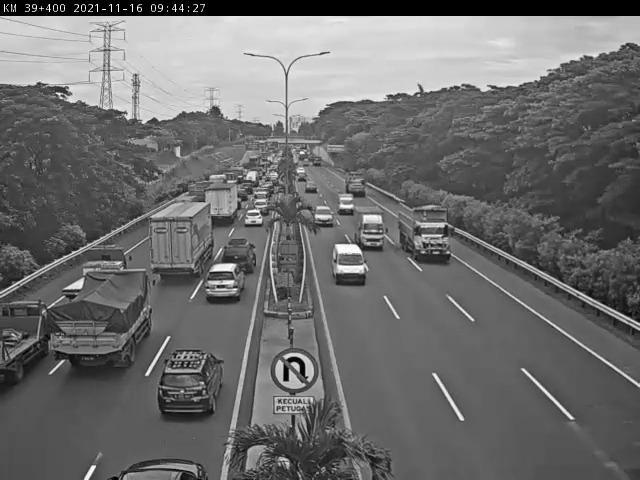car: (158, 348, 223, 420), (328, 242, 370, 286), (205, 261, 244, 304), (222, 238, 261, 280), (311, 201, 333, 233)
small truck: (1, 295, 56, 382), (335, 191, 356, 215)
truck-l-: (151, 202, 210, 278), (397, 202, 453, 267)
truck-m-: (46, 268, 156, 373), (59, 243, 131, 304), (353, 210, 389, 251), (206, 182, 239, 221)
